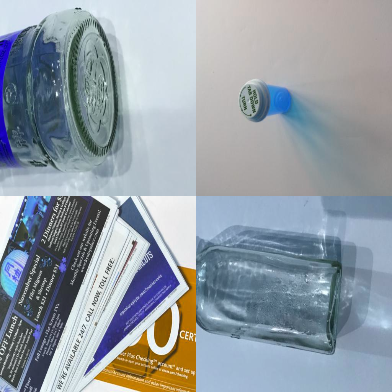glass: (1, 8, 124, 170), (197, 246, 343, 354)
paper: (1, 196, 196, 392)
plastic: (238, 80, 293, 122)
